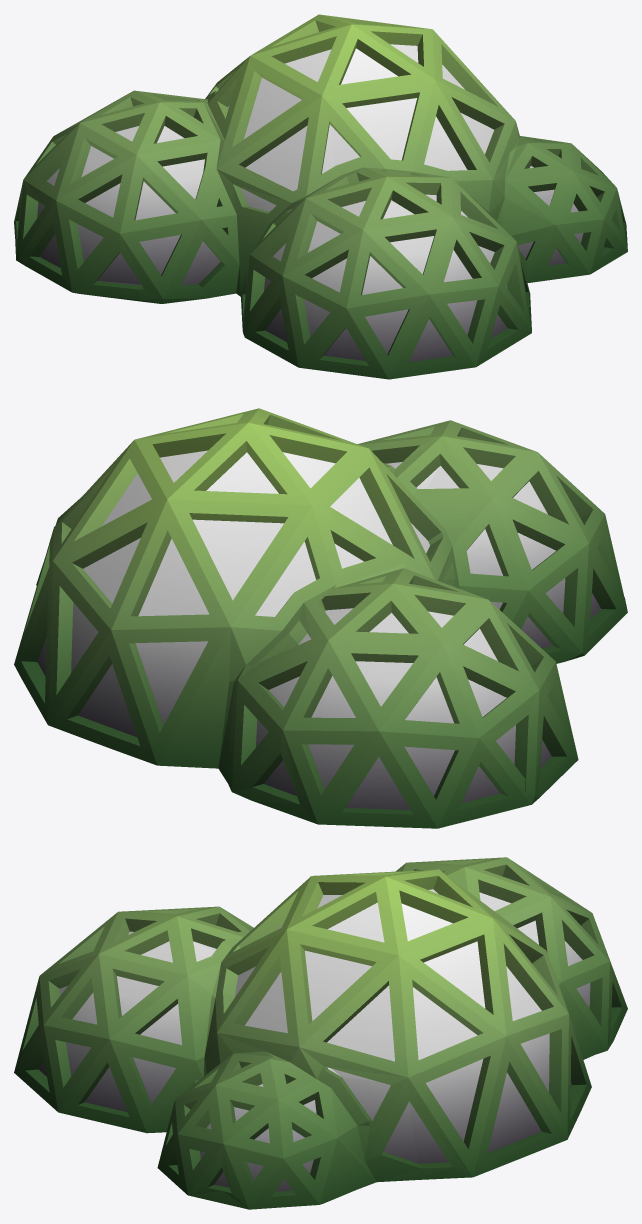
Rendered from SM_Coral_14.fbx.
3 renders of one model, top to bottom at view 1: azimuth 30°, elevation 25°; view 2: azimuth 150°, elevation 25°; view 3: azimuth 270°, elevation 25°, orthographic. The views are drawn at different scales.
Parts seen in each view (by area): view 1: Coral_14; view 2: Coral_14; view 3: Coral_14.
Part boxes in pixels (bbox=[...]): Coral_14: bbox=[14, 14, 627, 379]; Coral_14: bbox=[14, 408, 627, 828]; Coral_14: bbox=[14, 857, 627, 1209].
Bounding box in the file's own units: 133 × 52.78 × 132.
